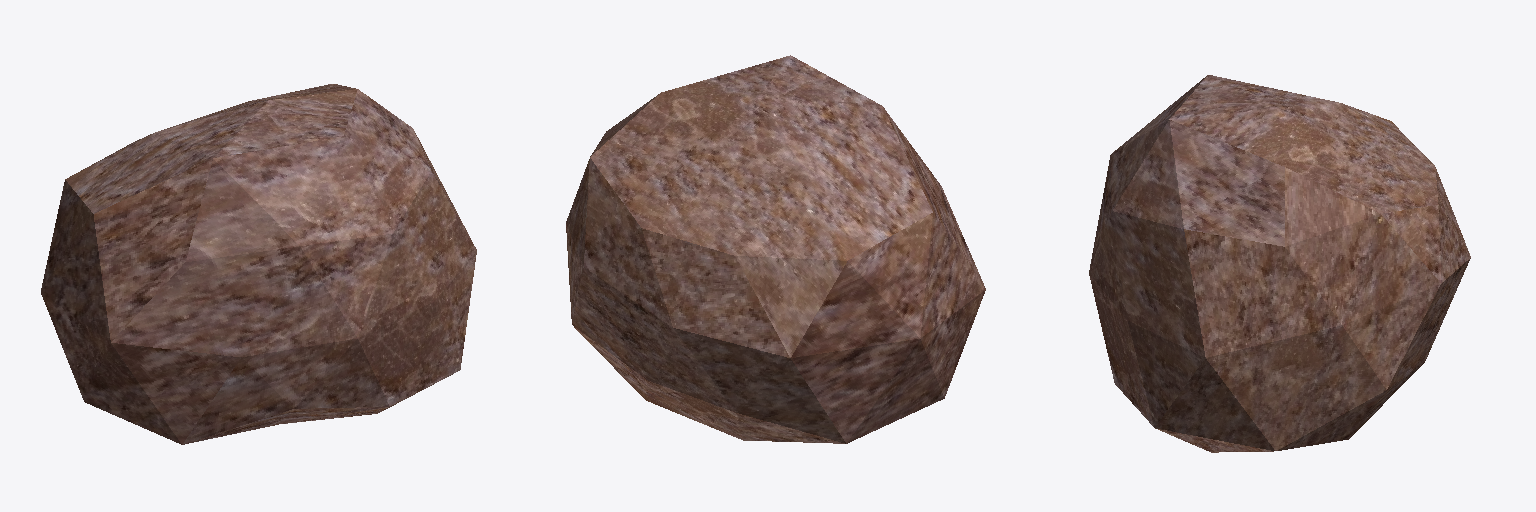
3 views of the same model, side by side, from view 1: azimuth 30°, elevation 25°; view 2: azimuth 150°, elevation 25°; view 3: azimuth 270°, elevation 25° (orthographic).
Parts seen in each view (by area): view 1: Icosphere.001; view 2: Icosphere.001; view 3: Icosphere.001.
Boxes of the visible parts, <box> form: Icosphere.001: <box>41,84,476,444</box>; Icosphere.001: <box>566,55,985,443</box>; Icosphere.001: <box>1089,75,1470,452</box>.
Bounding box in the file's own units: 1 × 0.8 × 0.9.
1 materials, 1 textured.